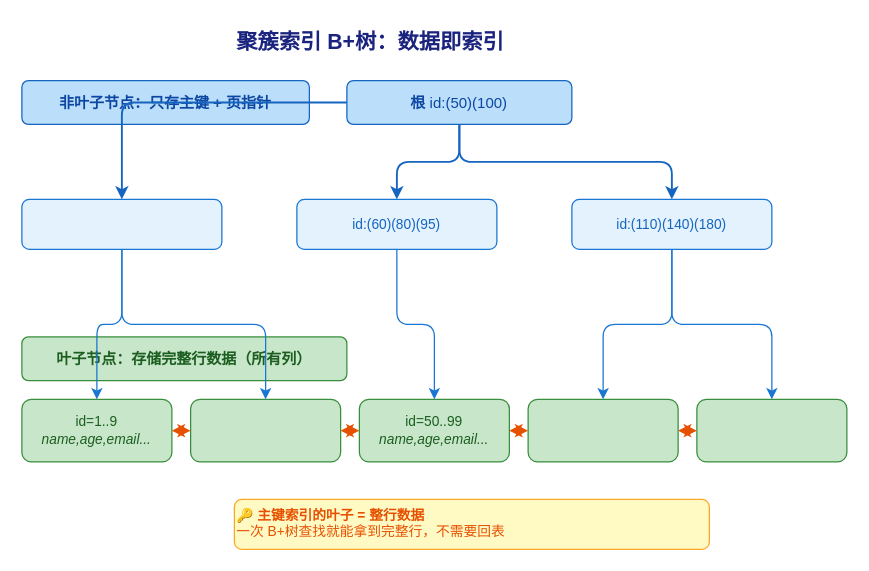
The diagram is 869 pixels wide and 571 high, and some of its shapes have lost their labels. Each missing label, with the centre of its shape:
"id:(10)(25)(45)" goes at point (121, 223).
"id=10..24 name,age,email..." goes at point (265, 430).
"id=100..179 name,age,email..." goes at point (602, 430).
"id=180.. name,age,email..." goes at point (771, 430).
